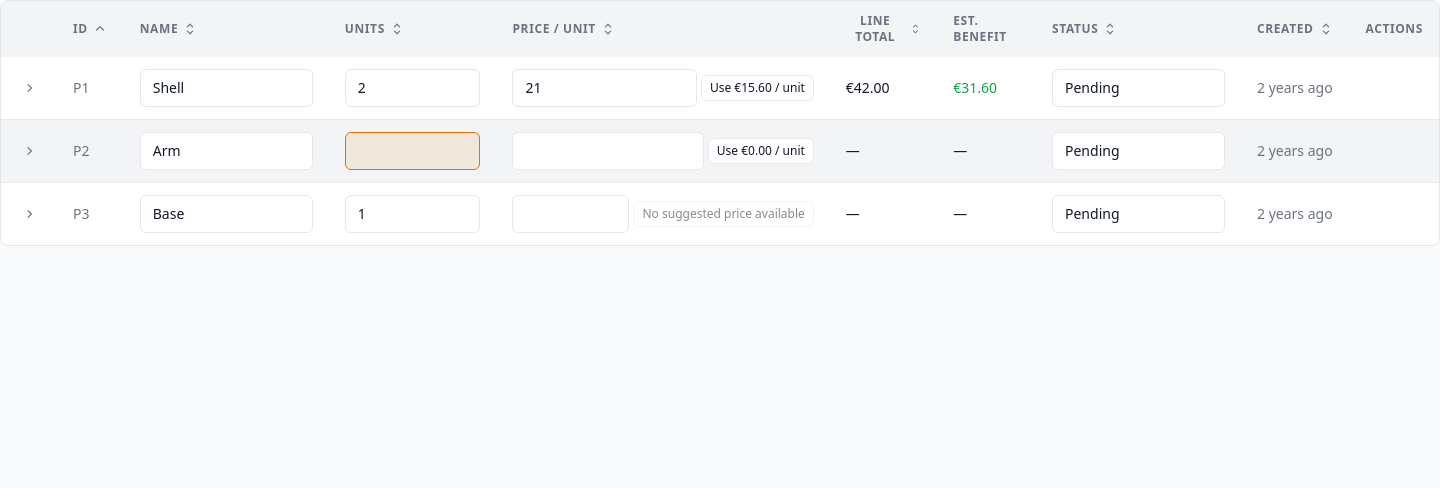
Test case: PiecesTable › shows the run margin of an expanded piece
Click the button named "Expand piece P1" at (29, 88), box [17,76,41,100]
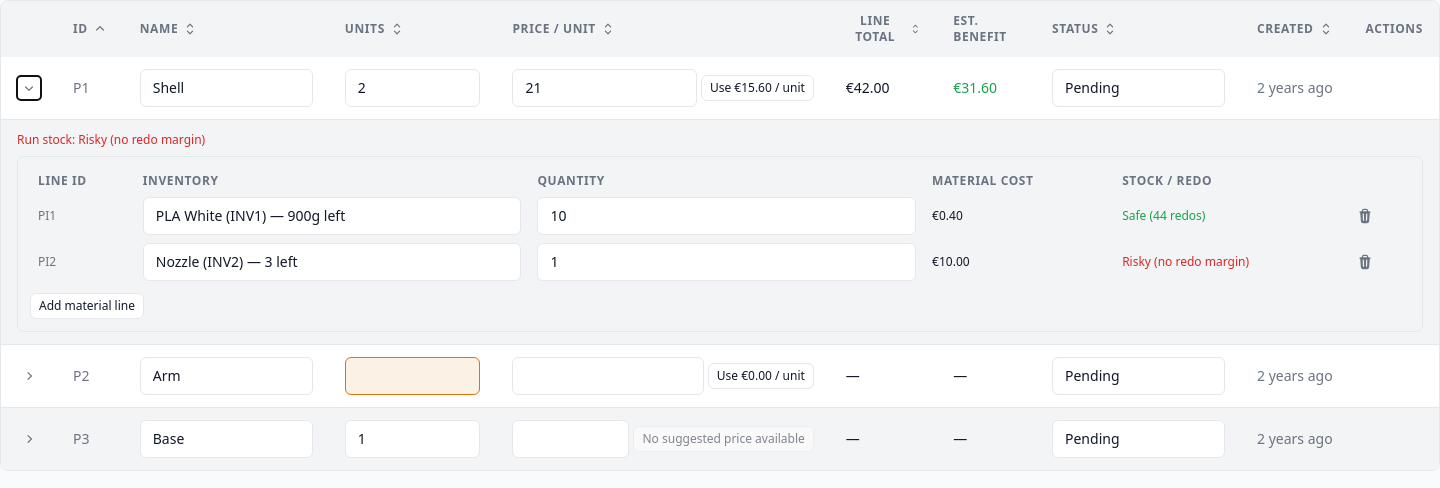
Check: the text "Run stock: Risky (no redo margin)" is shown, box [17,131,205,148]
